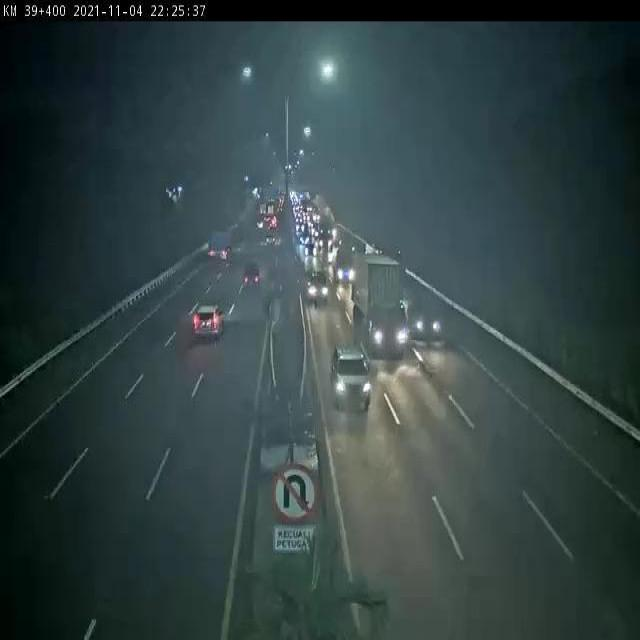car: (400, 280, 444, 347), (331, 342, 375, 407), (189, 300, 223, 344), (303, 265, 332, 303), (239, 263, 262, 297)
truck-m-: (329, 244, 356, 288)
truck-s-: (203, 229, 230, 271)
truck-xl-: (353, 249, 414, 356)
